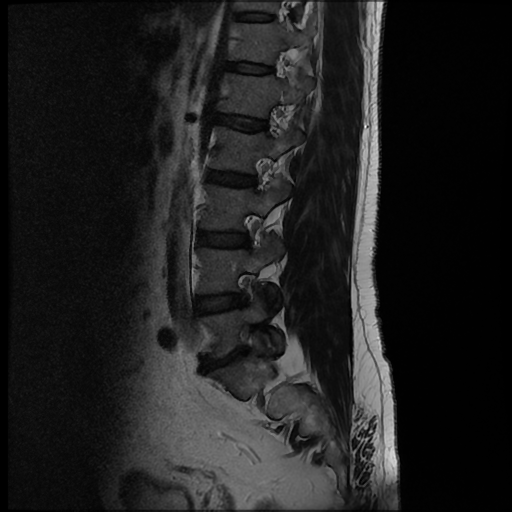RFS1: (227, 264, 263, 311)
